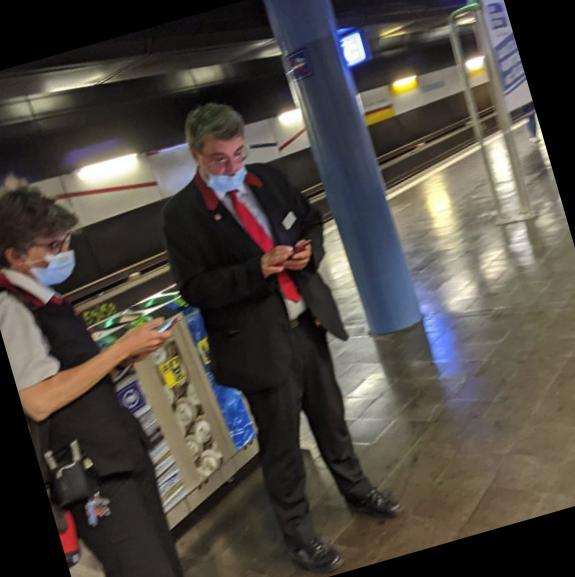mask_weared_incorrect: (196, 130, 260, 200)
with_mask: (23, 229, 84, 294)
